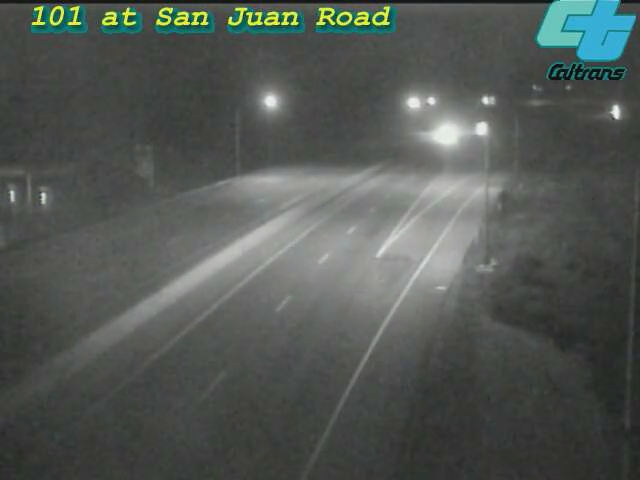vehicle: (418, 109, 468, 159), (456, 104, 506, 154), (589, 87, 639, 137)
